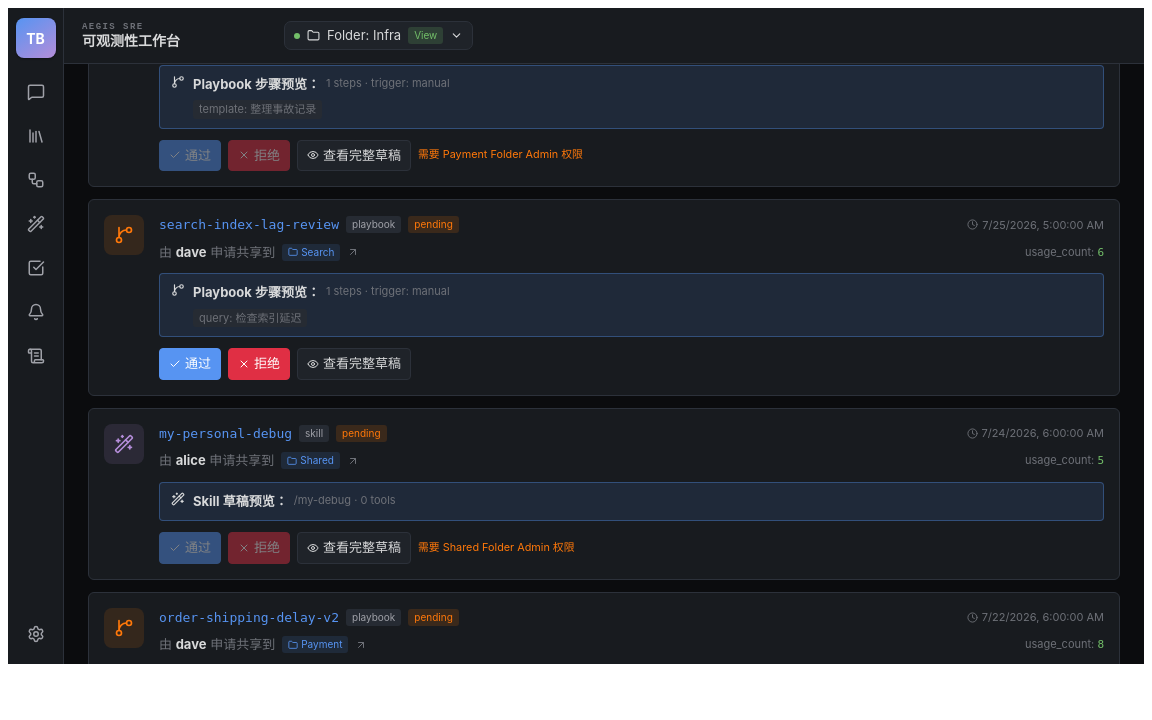
Test case: ApprovalsPage › does not submit the same approval twice while the first decision is pending
This screenshot has width=1152, height=720.
(page scrolled)
Click the button "通过" below "query" at [190, 364], box [159, 348, 221, 380]
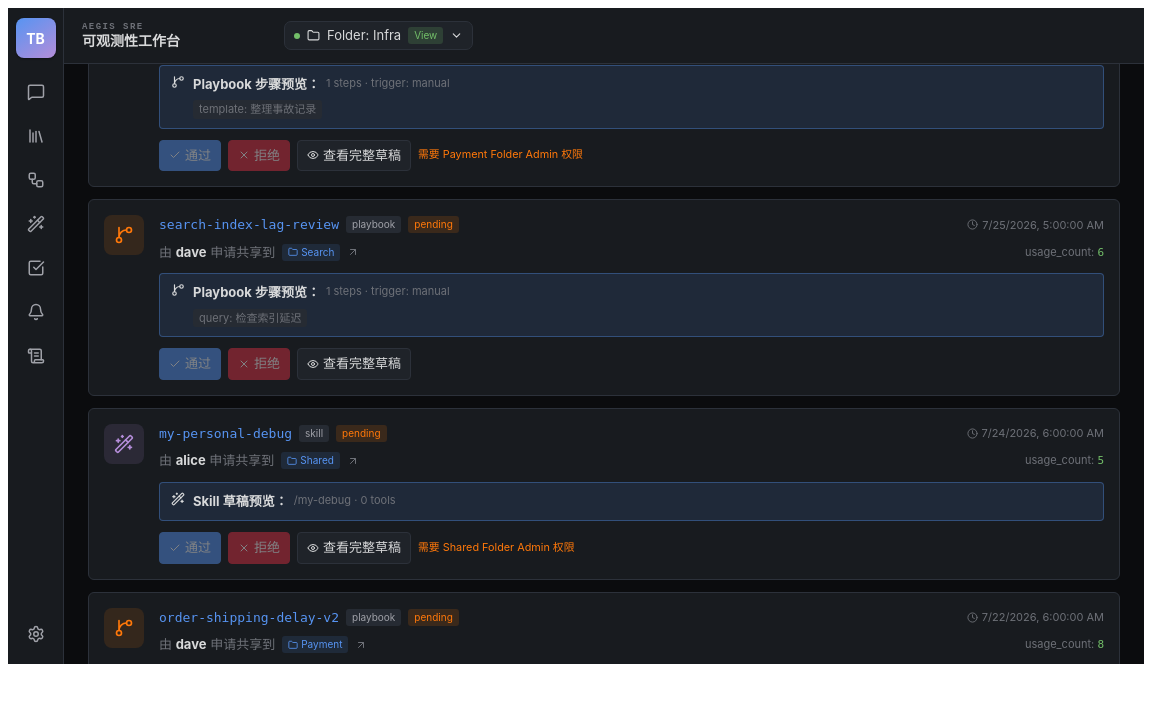
Click the button "通过" below "query" at [190, 364], box [159, 348, 221, 380]
(page scrolled)
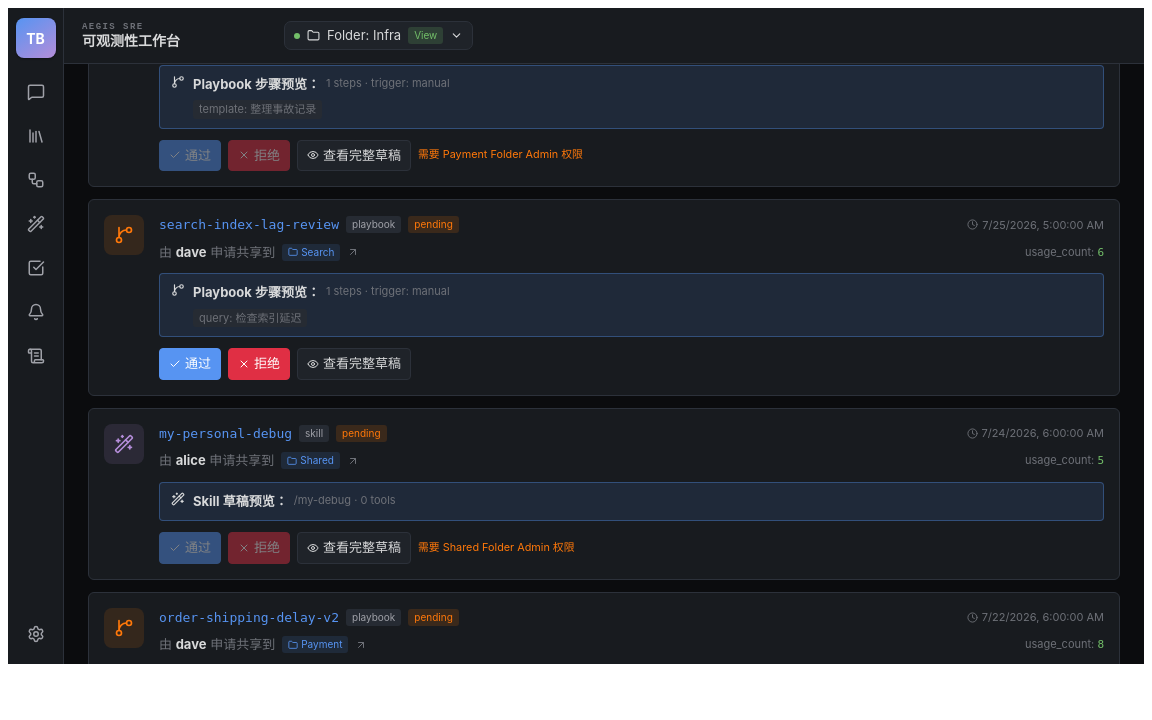
Expected: the button "通过" below "query" is enabled, [159, 348, 221, 380]
